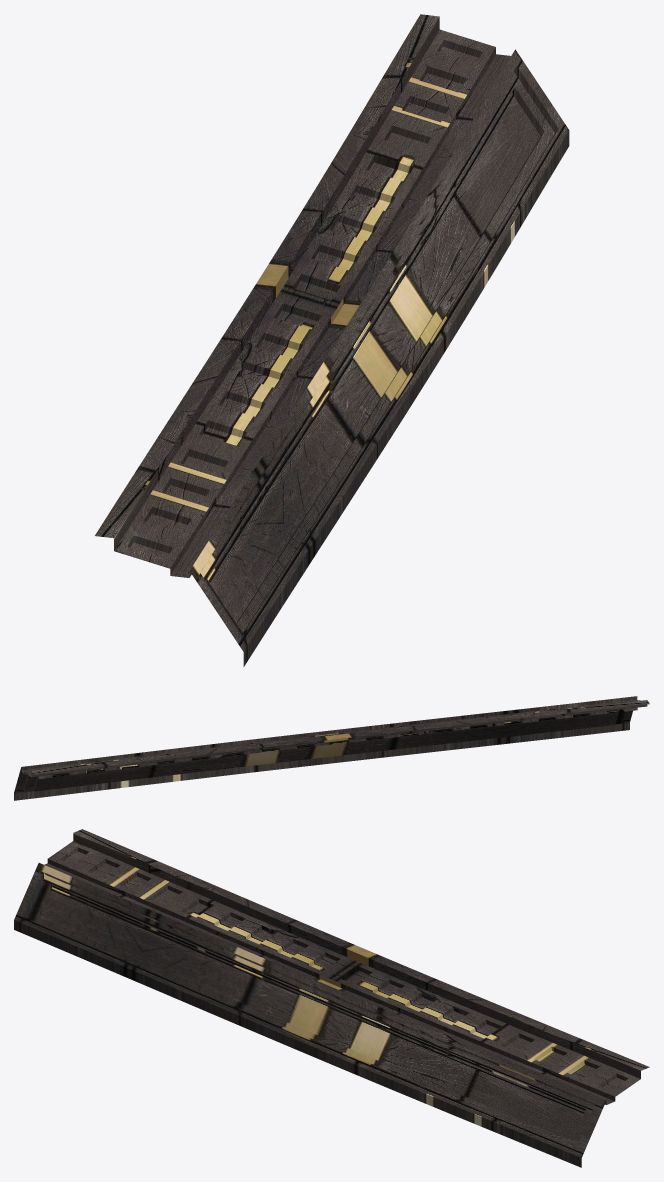
Rendered from Moulding_03_45slant.FBX.
3 renders of one model, top to bottom at view 1: azimuth 30°, elevation 25°; view 2: azimuth 150°, elevation 25°; view 3: azimuth 270°, elevation 25°, orthographic. The views are drawn at different scales.
Visible parts, largest first — view 1: Moulding45_Cont.01; view 2: Moulding45_Cont.01; view 3: Moulding45_Cont.01.
Part boxes in pixels (left/top/right/bottom): Moulding45_Cont.01: left=95, top=14, right=569, bottom=666; Moulding45_Cont.01: left=14, top=696, right=649, bottom=800; Moulding45_Cont.01: left=14, top=829, right=649, bottom=1167.
Size of the model in its own units: 348 by 43.74 by 351.
